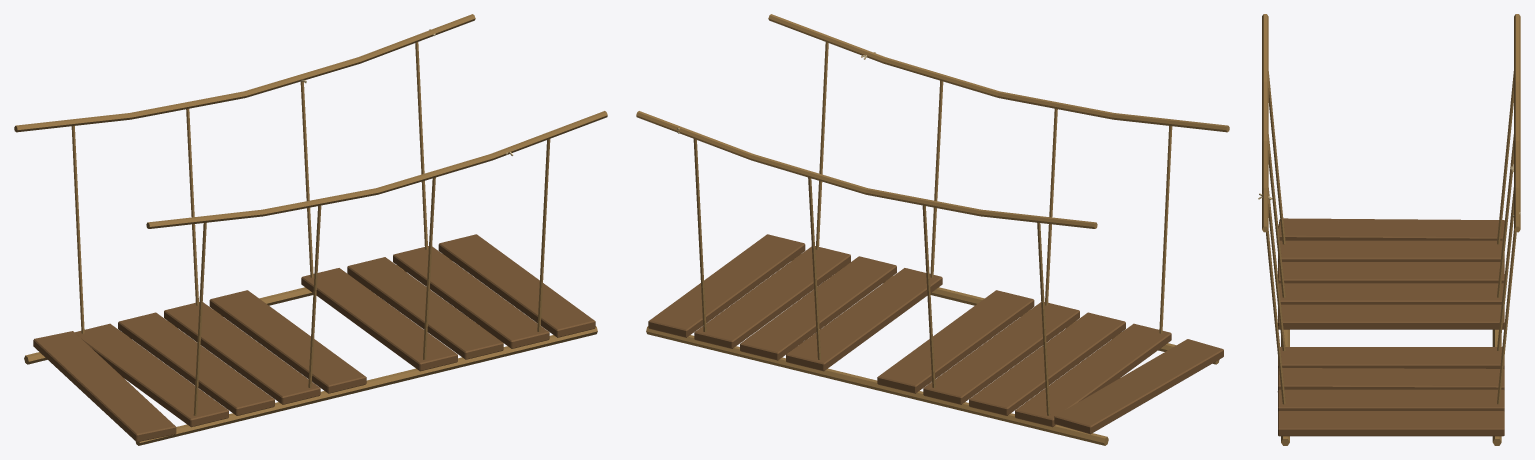
Rendered from Prop_YTM_RopeBridge_Seg_S2.glb.
3 renders of one model, left to right at view 1: azimuth 30°, elevation 25°; view 2: azimuth 150°, elevation 25°; view 3: azimuth 270°, elevation 25°, orthographic. The views are drawn at different scales.
Parts seen in each view (by area): view 1: Prop_YTM_RopeBridge_Seg_S2; view 2: Prop_YTM_RopeBridge_Seg_S2; view 3: Prop_YTM_RopeBridge_Seg_S2.
Boxes of the visible parts, bbox=[...] form: Prop_YTM_RopeBridge_Seg_S2: bbox=[14, 14, 607, 445]; Prop_YTM_RopeBridge_Seg_S2: bbox=[636, 14, 1229, 445]; Prop_YTM_RopeBridge_Seg_S2: bbox=[1258, 14, 1520, 445].
Size of what is drawn, in the model's own units: 2.02 by 0.9588 by 1.04.
